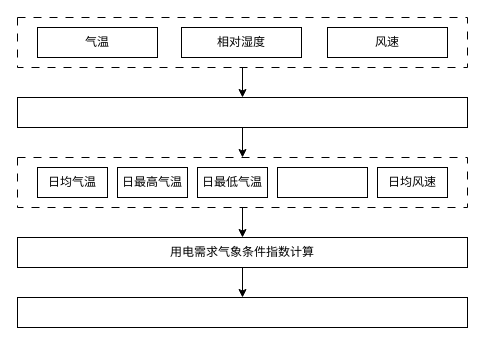
The diagram is 485 pixels wide and 345 high, and some of its shapes have lost their labels. The centre of each missing label's shape, as x and y in pixels:
数据处理及日值统计: (242,112)
日均相对湿度: (322,182)
用电需求气象条件等级划分: (242,312)
